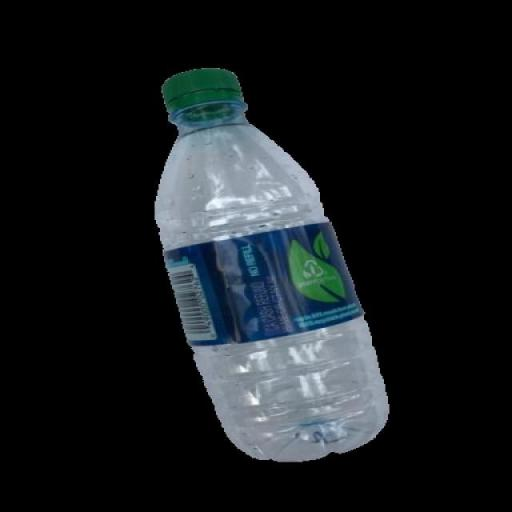plastic: (153, 66, 395, 466)
